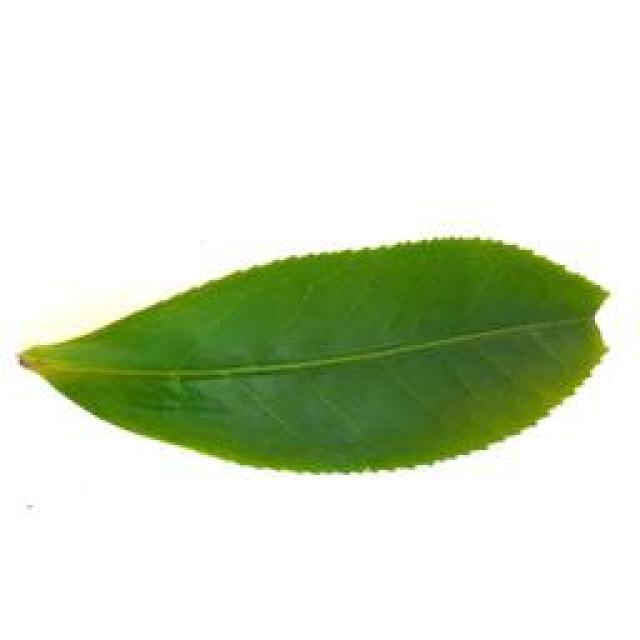Healthy: (18, 227, 615, 482)
